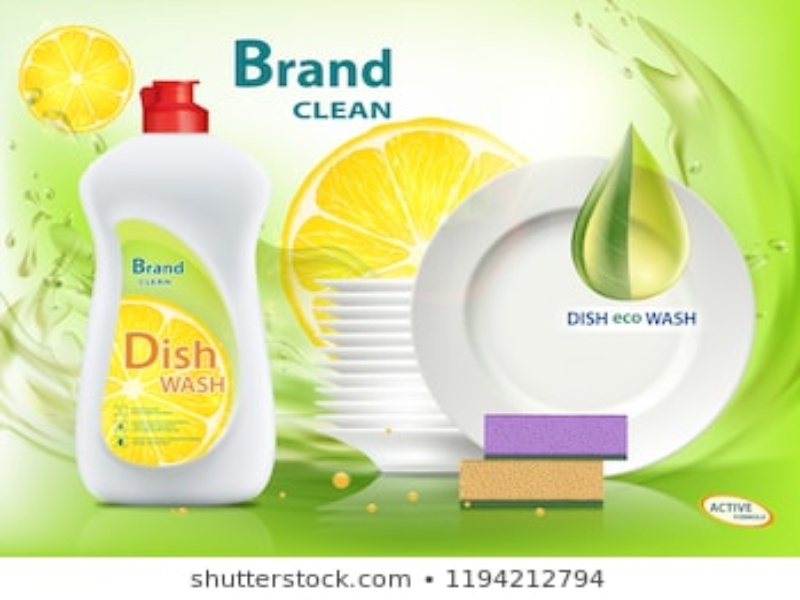detergent-bottle: (75, 79, 286, 508)
